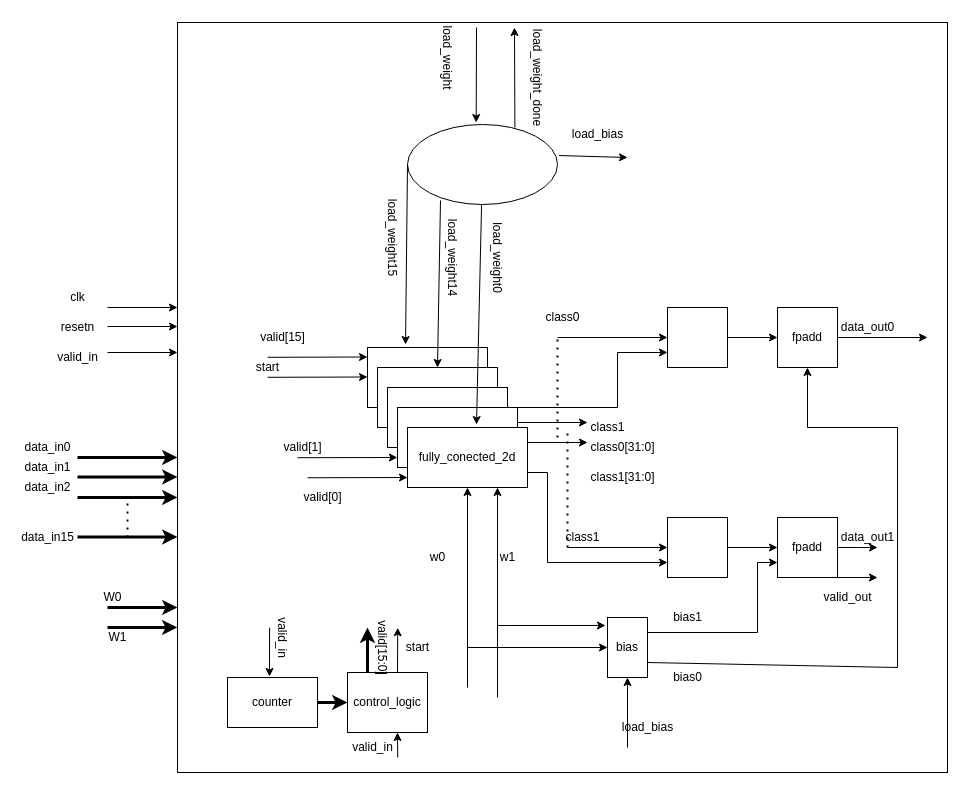
This 965x790 diagram has some shape labels left out. Here are the shapes that lost their labels. From the top down, the centre of each, then its label:
At point (482, 164): "control".
At point (697, 337): "fpadd class0".
At point (697, 547): "fpadd class1".
